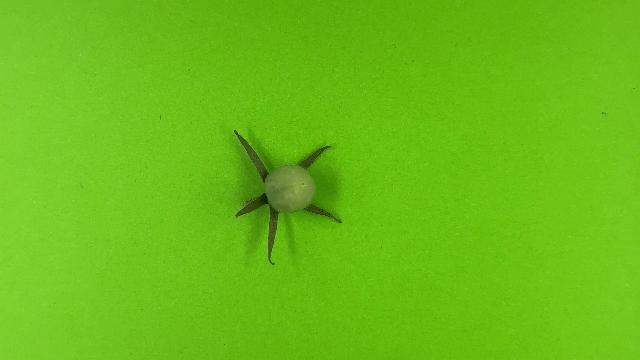Fruit Maturation: (262, 164, 317, 214)
